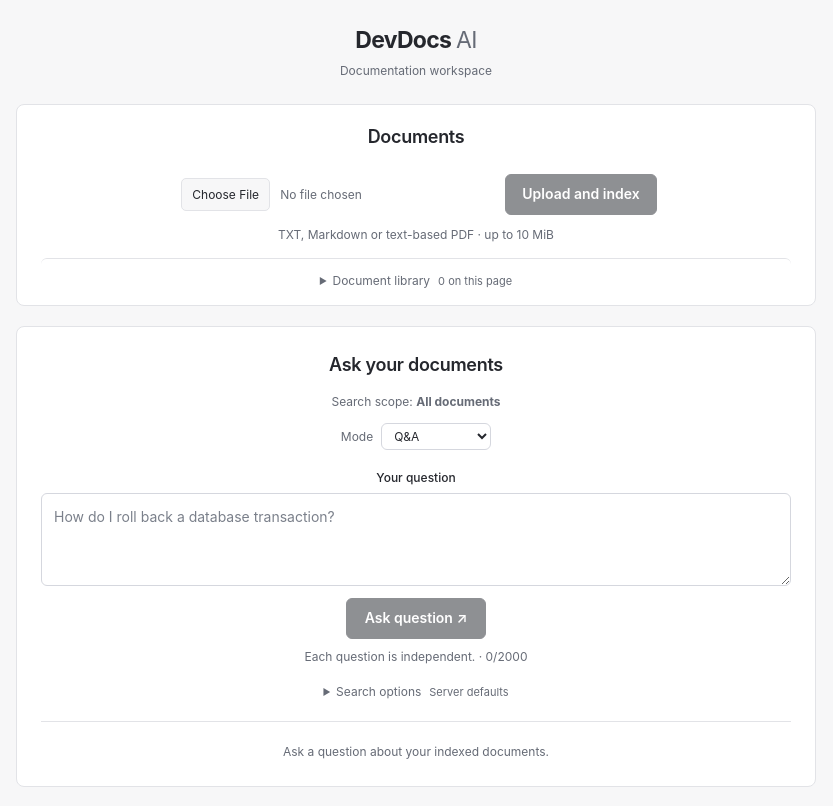
Test case: documentation workspace › allows a question retry after a provider error
The width and height of the screenshot is (833, 806).
In the text box labelled "Your question": point(416, 540) top-left (41, 493), bottom-right (791, 586), type "How do I undo changes?"
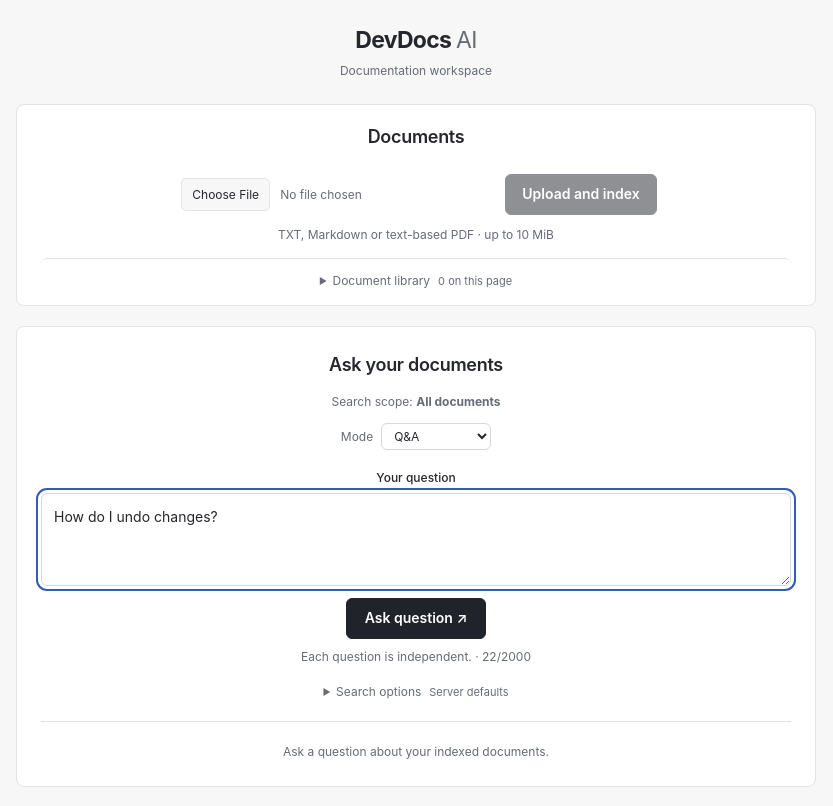
Click the button "Ask question ↗": point(416, 618) top-left (346, 598), bottom-right (486, 639)
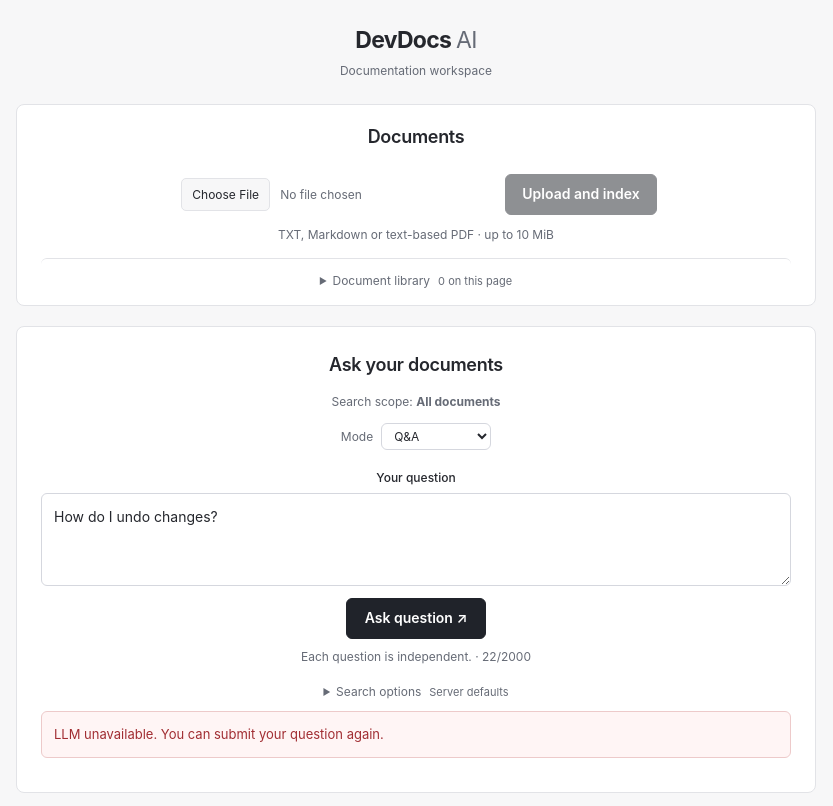
Expected: the message shows "LLM unavailable", top-left (54, 726), bottom-right (157, 742)
Click the button "Ask question ↗": point(416, 618) top-left (346, 598), bottom-right (486, 639)
(page scrolled)
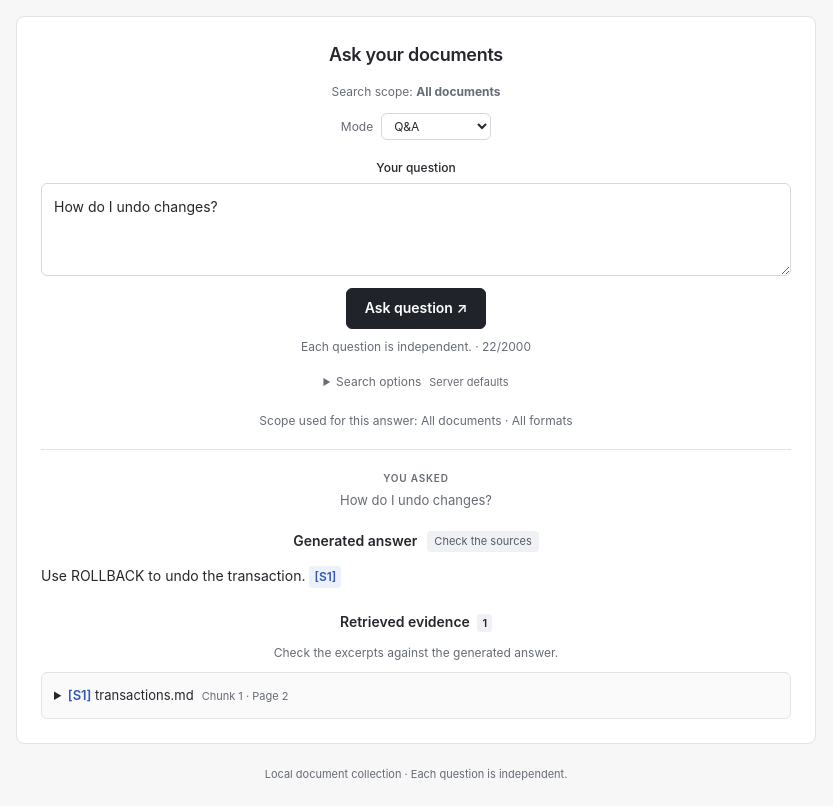
Expected: the heading "Generated answer" is shown, top-left (293, 530), bottom-right (417, 553)
Expected: the message "LLM unavailable. You can submit your question again." is gone
